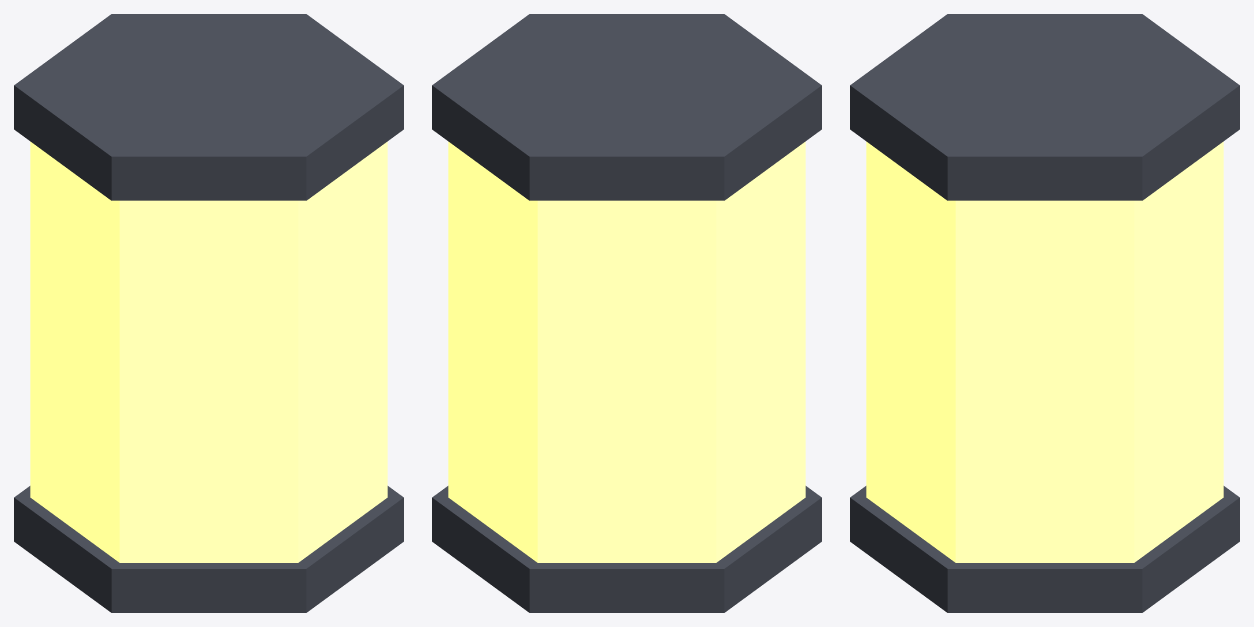
The model's file is pickup_energy.glb.
3 views of the same model, side by side, from view 1: azimuth 30°, elevation 25°; view 2: azimuth 150°, elevation 25°; view 3: azimuth 270°, elevation 25° (orthographic).
Parts seen in each view (by area): view 1: PowerCell, Cap_0.28, Cap_-0.28; view 2: PowerCell, Cap_0.28, Cap_-0.28; view 3: PowerCell, Cap_0.28, Cap_-0.28.
Boxes of the visible parts, left/top/right/bottom form: PowerCell: left=30, top=141, right=387, bottom=562; Cap_0.28: left=14, top=14, right=403, bottom=200; Cap_-0.28: left=14, top=486, right=403, bottom=612; PowerCell: left=448, top=141, right=805, bottom=562; Cap_0.28: left=432, top=14, right=821, bottom=200; Cap_-0.28: left=432, top=486, right=821, bottom=612; PowerCell: left=866, top=141, right=1223, bottom=562; Cap_0.28: left=850, top=14, right=1239, bottom=200; Cap_-0.28: left=850, top=486, right=1239, bottom=612.
Bounding box in the file's own units: 0.4157 × 0.62 × 0.48.
